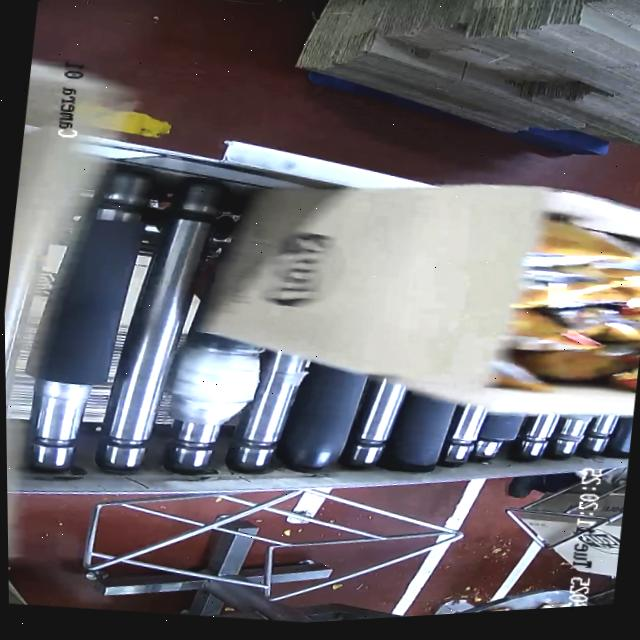FRENCH_CHEESE: (494, 207, 640, 410)
